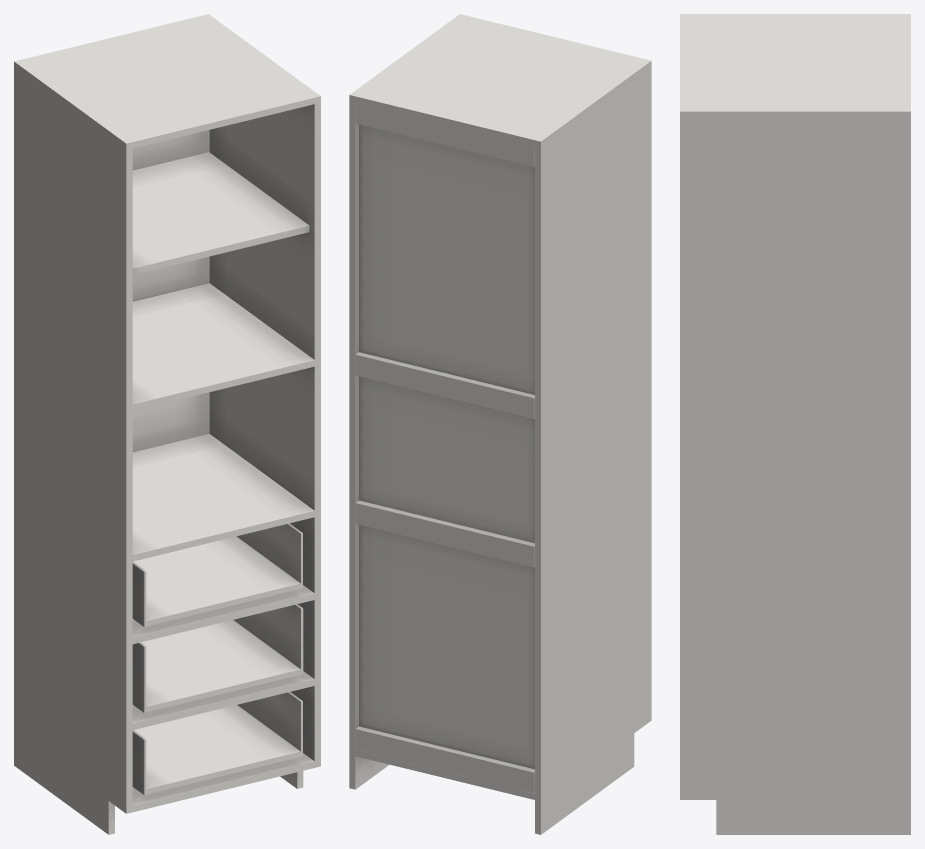
The model's file is tall-microwave-3-drawer-doors-off.glb.
3 views of the same model, side by side, from view 1: azimuth 30°, elevation 25°; view 2: azimuth 150°, elevation 25°; view 3: azimuth 270°, elevation 25° (orthographic). The views are drawn at different scales.
Visible parts, largest first — view 1: part_3, part_0; view 2: part_3; view 3: part_3.
Boxes of the visible parts, x1,y1,x2,y2 form: part_3: [14, 14, 320, 834]; part_0: [132, 523, 303, 794]; part_3: [349, 14, 651, 834]; part_3: [680, 14, 910, 834].
Size of the model in its own units: 0.6096 by 2.11 by 0.6097.
2 materials, 1 textured.
